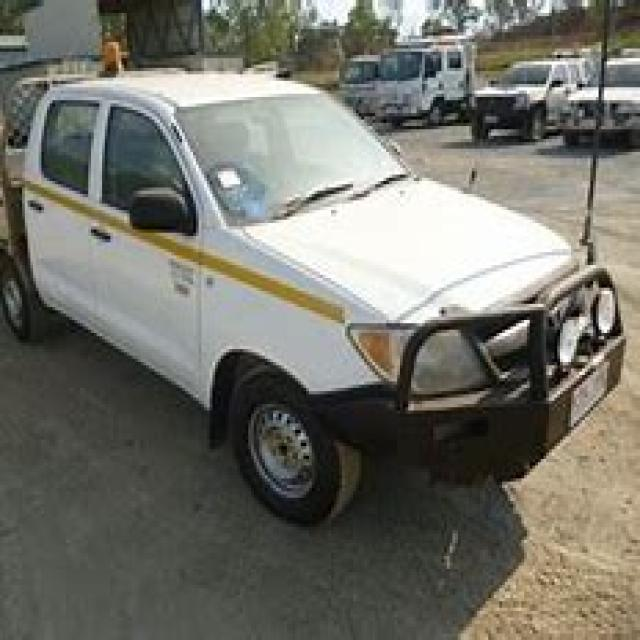light_vehicle: (8, 55, 638, 543)
